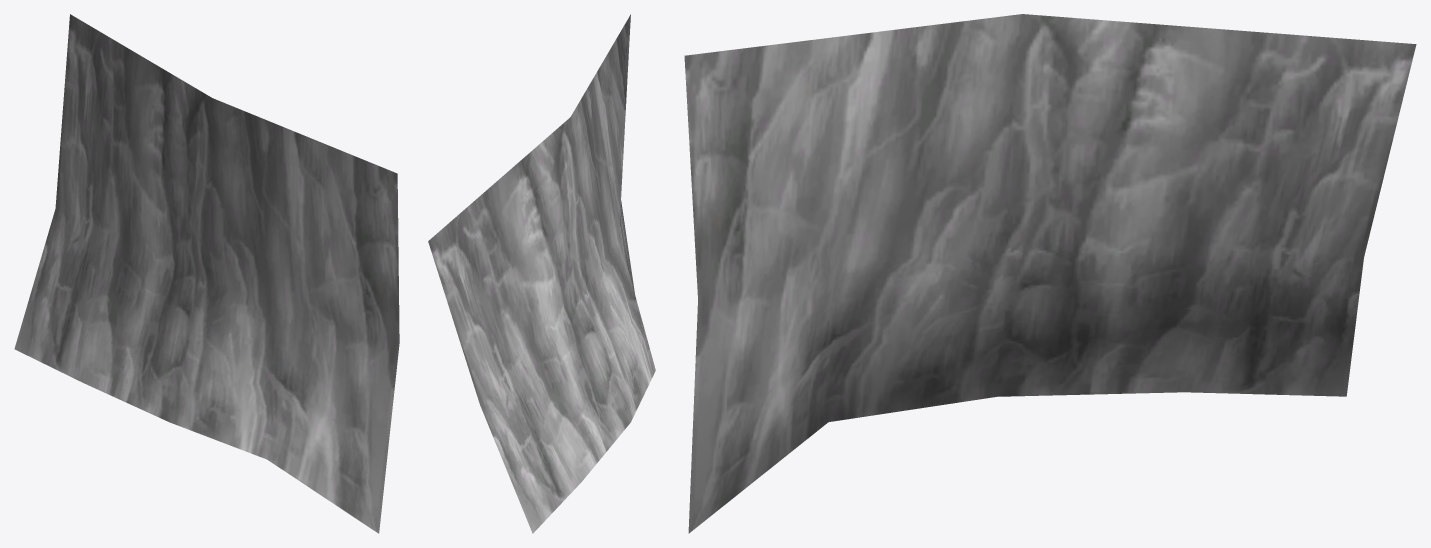
Rendered from SWORDLIGHT20_PS-AREA03_206.fbx.
The picture shows the model from 3 angles, left to right: view 1: azimuth 30°, elevation 25°; view 2: azimuth 150°, elevation 25°; view 3: azimuth 270°, elevation 25°; orthographic projection. The views are drawn at different scales.
Visible parts, largest first — view 1: SWORDLIGHT20_PS-AREA03_206; view 2: SWORDLIGHT20_PS-AREA03_206; view 3: SWORDLIGHT20_PS-AREA03_206.
Boxes of the visible parts, x1,y1,x2,y2 form: SWORDLIGHT20_PS-AREA03_206: (14,14,399,533); SWORDLIGHT20_PS-AREA03_206: (428,14,655,533); SWORDLIGHT20_PS-AREA03_206: (684,14,1416,533).
Bounding box in the file's own units: 20399 × 46924 × 63520.
Materials: 1 (1 with a texture image).
